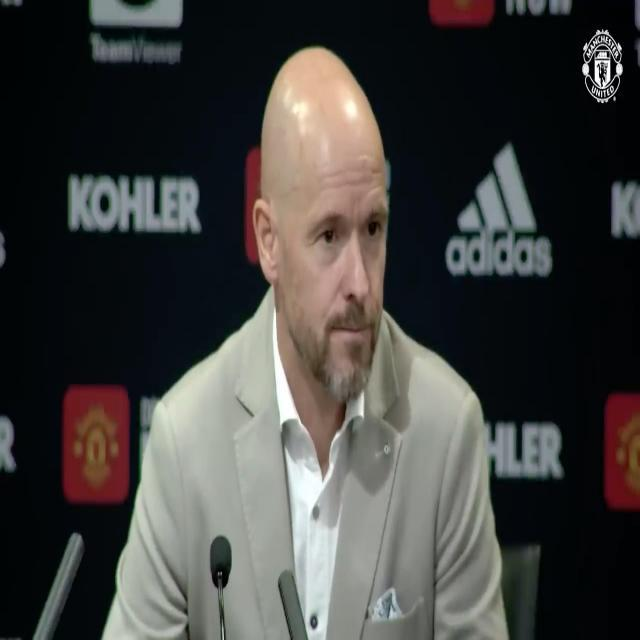Adidas: (445, 142, 552, 279)
Kohler: (69, 175, 200, 235)
TeamViewer: (90, 1, 182, 66)
